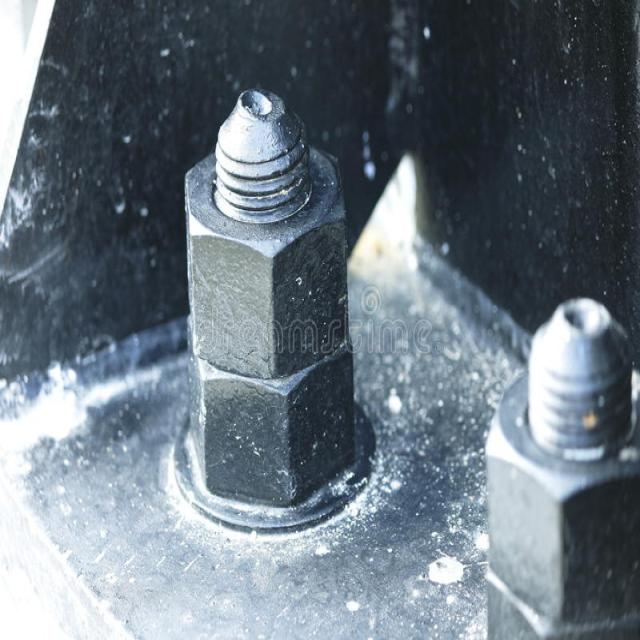bolt nut: (179, 120, 353, 378), (480, 337, 638, 612)
